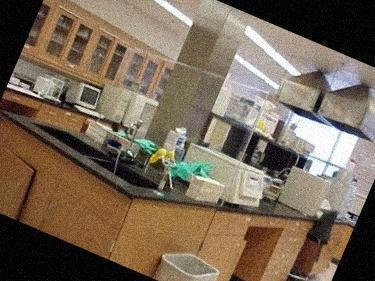Bote de Basura: (155, 241, 224, 281)
